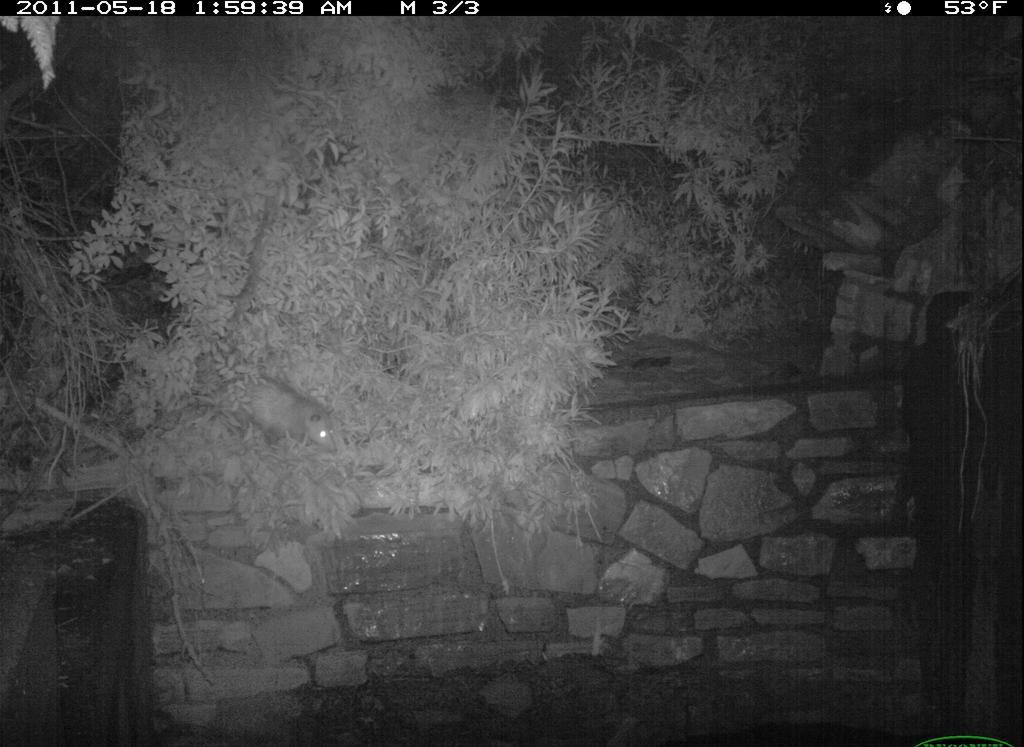opossum: (203, 358, 355, 486)
